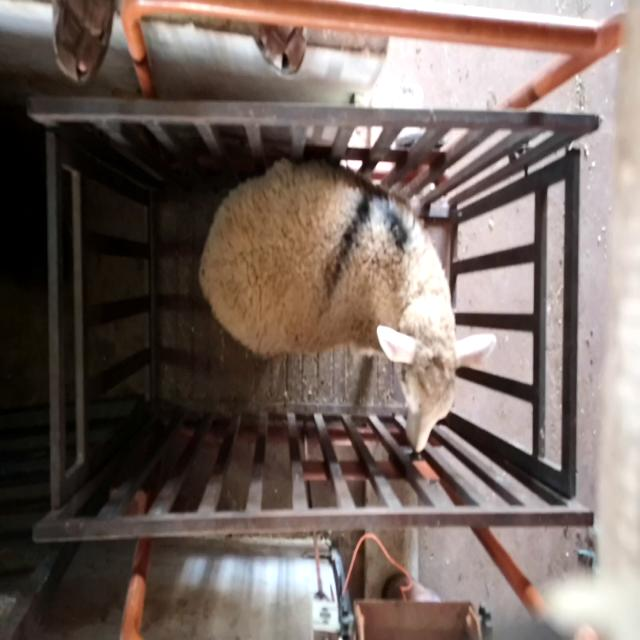sheep: (198, 159, 497, 454)
